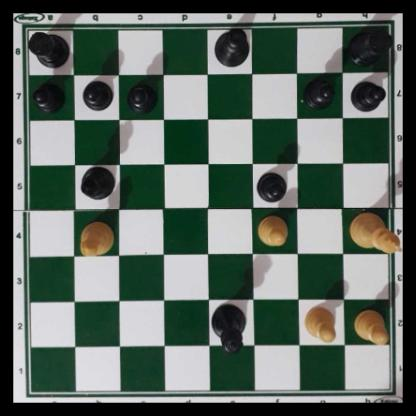black-bishop: (78, 166, 117, 200)
black-king: (212, 26, 251, 66)
black-pawn: (349, 78, 384, 112), (32, 80, 64, 111), (303, 76, 333, 108), (257, 170, 287, 201), (82, 79, 111, 111), (127, 80, 156, 112)
black-queen: (212, 303, 247, 355)
black-rook: (25, 27, 70, 68), (348, 25, 392, 65)
white-bishop: (79, 222, 113, 256)
white-king: (348, 214, 401, 253)
white-pawn: (303, 304, 337, 343), (353, 308, 388, 344), (256, 213, 289, 248)
